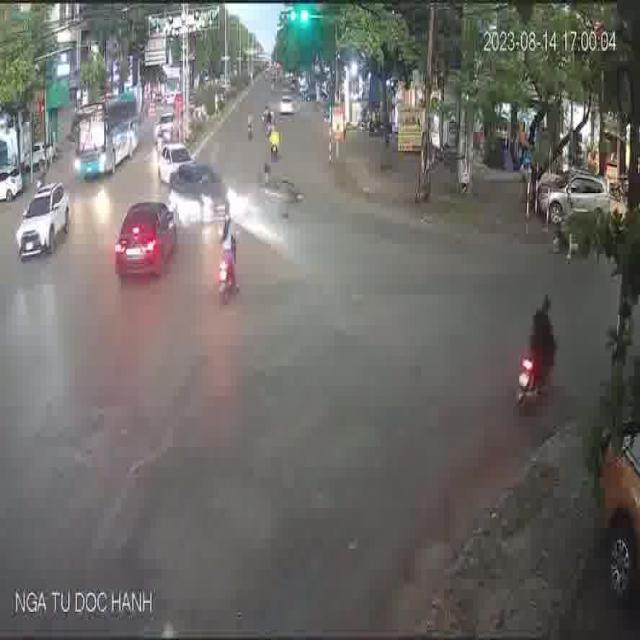multiple_accident: (169, 158, 304, 228)
normal: (489, 283, 571, 414), (193, 211, 274, 317), (96, 189, 183, 280), (7, 163, 74, 270)
